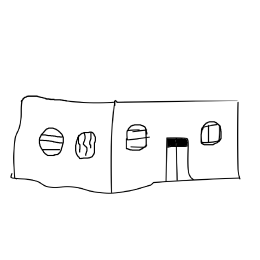closed_window: (36, 123, 69, 160), (73, 125, 104, 162), (122, 120, 154, 154), (197, 115, 227, 148)
door: (160, 132, 195, 185)
single_line_roof: (14, 85, 248, 117)
wall: (105, 96, 244, 199)
